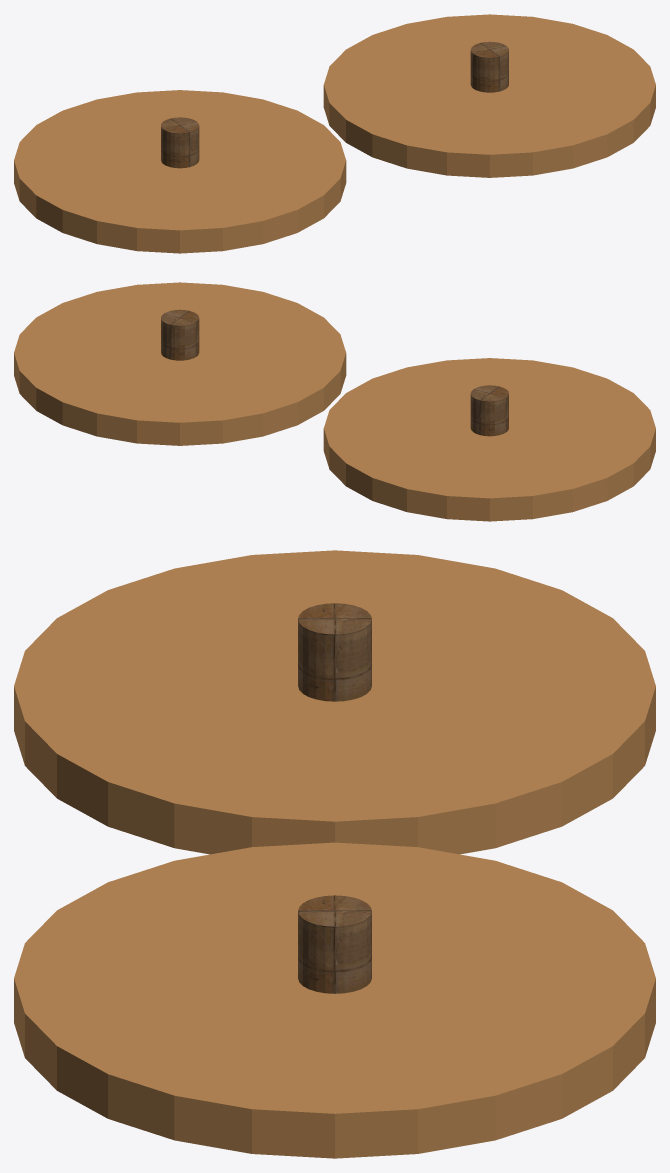
Rendered from cimbalos.glb.
3 renders of one model, top to bottom at view 1: azimuth 30°, elevation 25°; view 2: azimuth 150°, elevation 25°; view 3: azimuth 270°, elevation 25°, orthographic. The views are drawn at different scales.
Visible parts, largest first — view 1: Disco.001, Disco, Pega, Pega.001; view 2: Disco.001, Disco, Pega, Pega.001; view 3: Disco.001, Disco, Pega, Pega.001.
Part boxes in pixels (x1,y1,x2,y2): Disco.001: (323, 14, 655, 177); Disco: (14, 90, 346, 253); Pega: (161, 117, 199, 168); Pega.001: (470, 41, 508, 92); Disco.001: (14, 282, 346, 445); Disco: (323, 358, 655, 521); Pega: (470, 385, 508, 436); Pega.001: (161, 309, 199, 360); Disco.001: (14, 842, 655, 1158); Disco: (14, 550, 655, 854); Pega: (298, 603, 371, 701); Pega.001: (298, 895, 371, 993).
Bounding box in the file's own units: 2.7 × 0.25 × 1.3.
2 materials, 1 textured.
